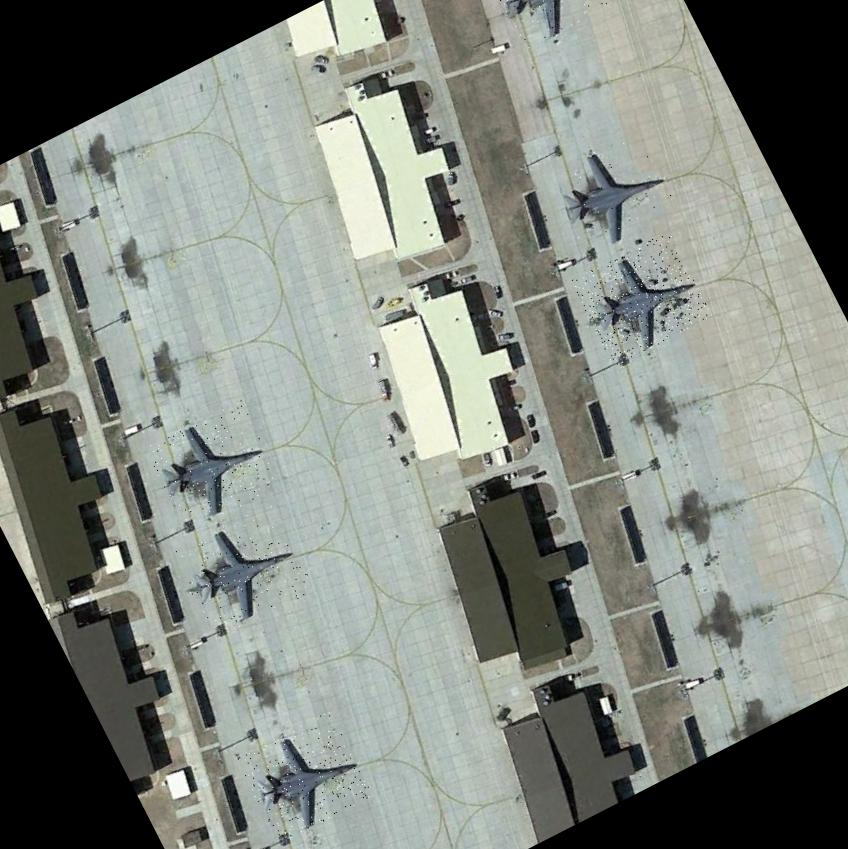A10: (169, 500, 319, 642), (570, 230, 712, 367), (143, 398, 284, 533), (542, 126, 680, 260), (235, 710, 373, 844), (483, 0, 618, 49)
